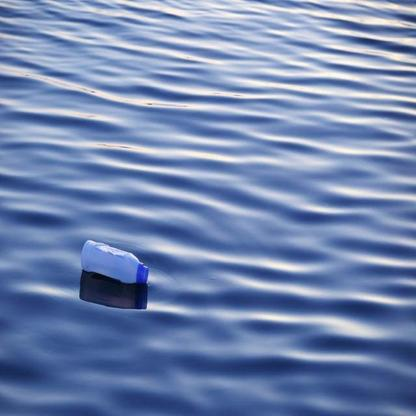plastic bottle: (82, 239, 149, 288)
